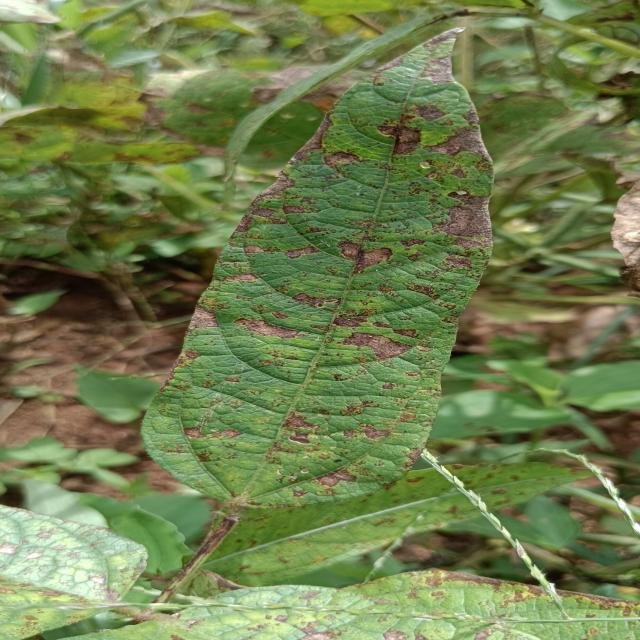Black gram_leaf spot: (120, 18, 520, 524), (154, 579, 640, 640)
